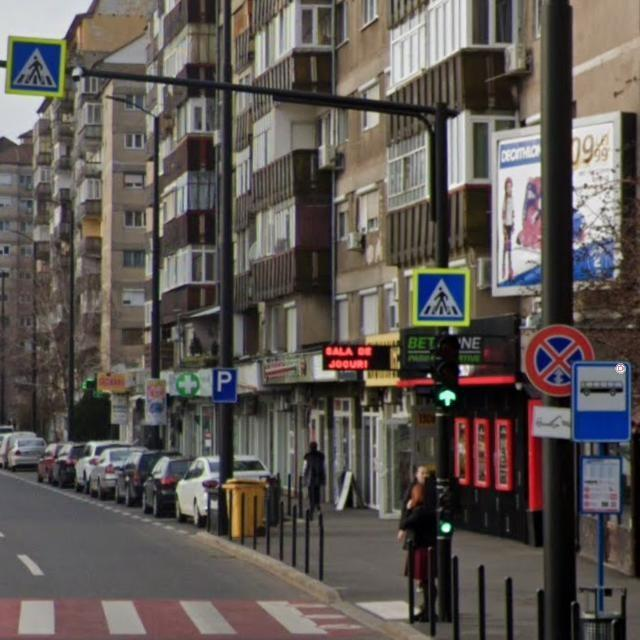forb_waiting: (526, 325, 595, 396)
info_crosswalk: (6, 36, 67, 98), (412, 267, 471, 328)
